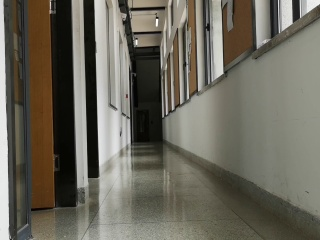room: (4, 2, 78, 227)
